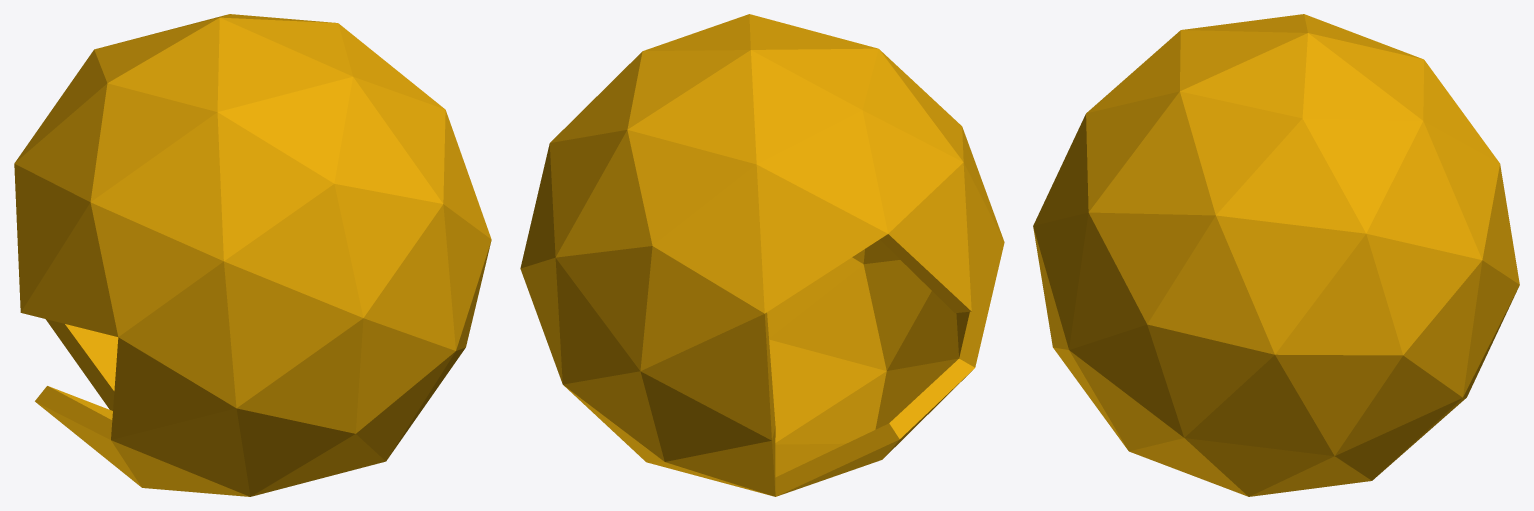
The model's file is debris5.fbx.
3 renders of one model, left to right at view 1: azimuth 30°, elevation 25°; view 2: azimuth 150°, elevation 25°; view 3: azimuth 270°, elevation 25°, orthographic. The views are drawn at different scales.
Visible parts, largest first — view 1: Icosphere; view 2: Icosphere; view 3: Icosphere.
Part boxes in pixels (box(x1,y1,x2,y2)): Icosphere: box(14, 14, 491, 496); Icosphere: box(520, 14, 1004, 496); Icosphere: box(1033, 14, 1519, 496).
Size of the model in its own units: 200 by 198 by 198.
